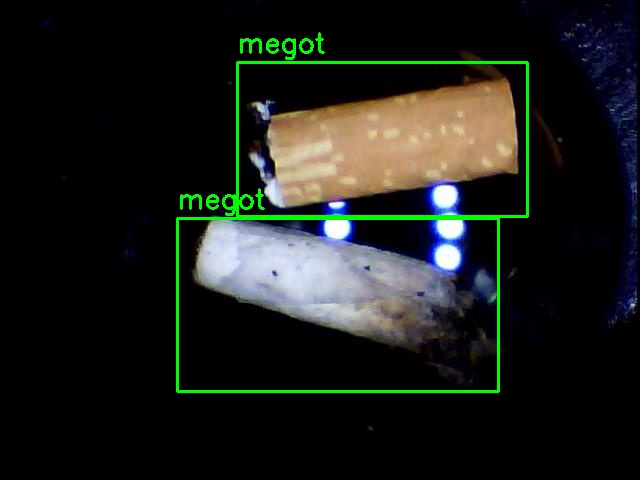megot: (177, 218, 498, 391), (237, 62, 527, 216)
